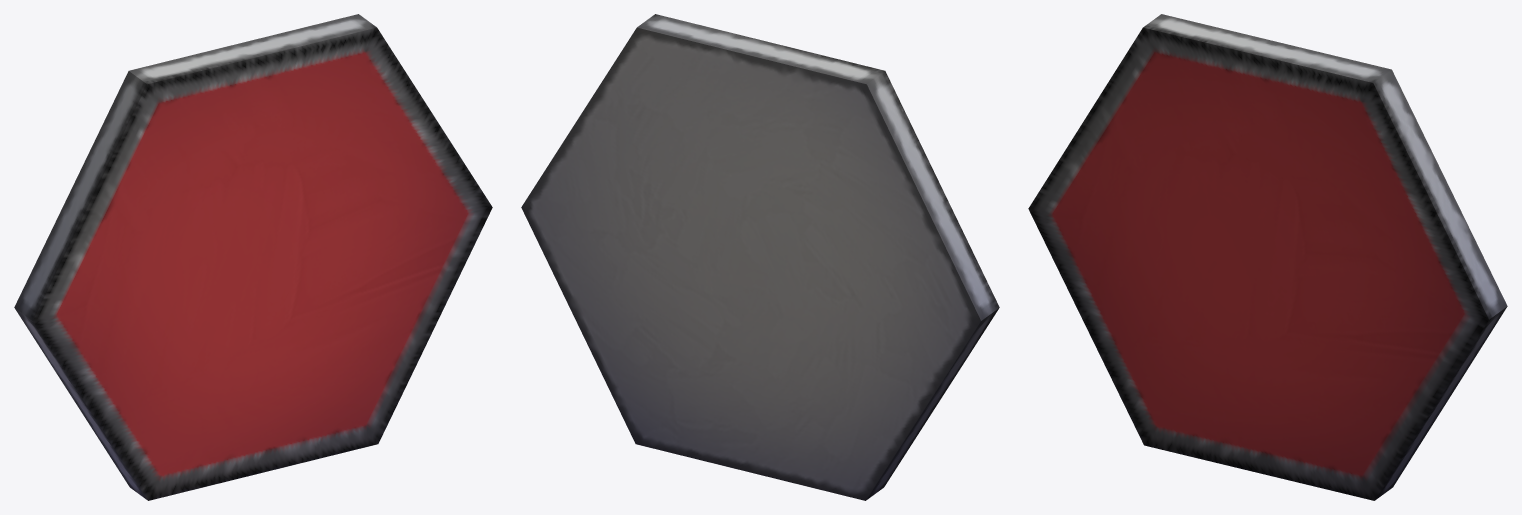
Rendered from HexagonalSign.fbx.
3 renders of one model, left to right at view 1: azimuth 30°, elevation 25°; view 2: azimuth 150°, elevation 25°; view 3: azimuth 330°, elevation 25°, orthographic.
Visible parts, largest first — view 1: HexagonalSign; view 2: HexagonalSign; view 3: HexagonalSign.
Boxes of the visible parts, x1,y1,x2,y2 form: HexagonalSign: [14, 14, 492, 500]; HexagonalSign: [521, 14, 999, 500]; HexagonalSign: [1028, 14, 1507, 500].
Bounding box in the file's own units: 0.7025 × 0.6094 × 0.049.
